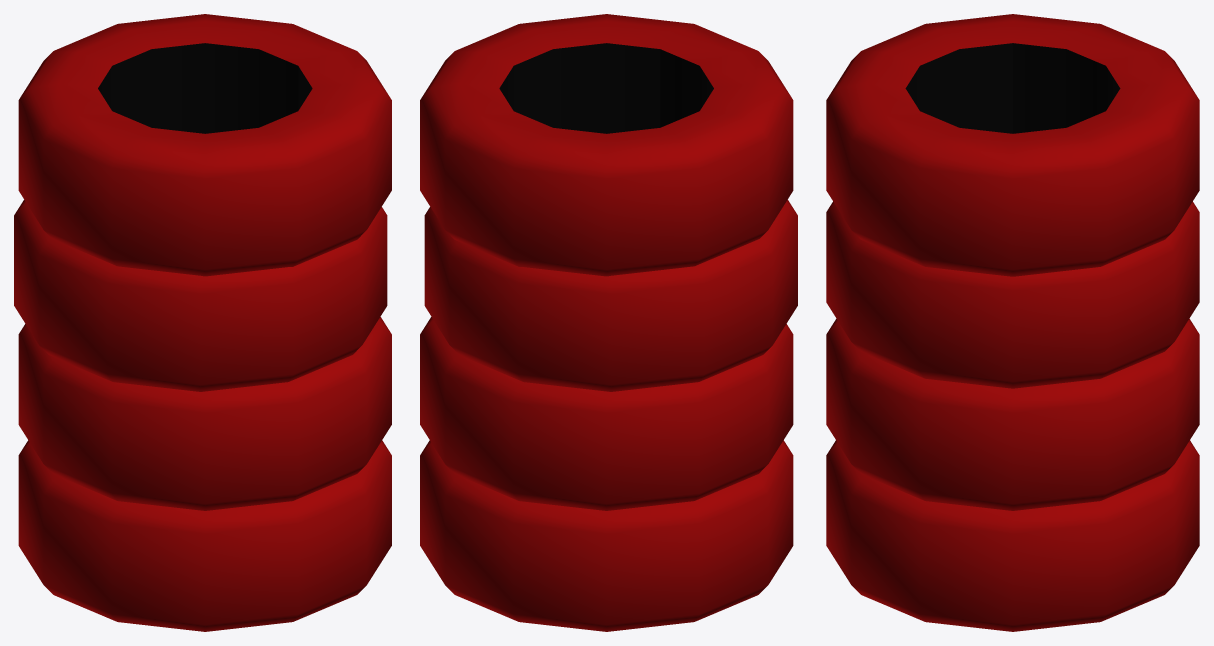
Rendered from prop_tyre_4x1_B.FBX.
The picture shows the model from 3 angles, left to right: view 1: azimuth 30°, elevation 25°; view 2: azimuth 150°, elevation 25°; view 3: azimuth 270°, elevation 25°; orthographic projection.
Visible parts, largest first — view 1: prop_tyre_stack_B; view 2: prop_tyre_stack_B; view 3: prop_tyre_stack_B.
Boxes of the visible parts, <box> form: prop_tyre_stack_B: <box>14,14,391,631</box>; prop_tyre_stack_B: <box>420,14,797,631</box>; prop_tyre_stack_B: <box>826,14,1199,631</box>.
Size of the model in its own units: 33.62 by 46.94 by 33.16.
Materials: 1 (1 with a texture image).
